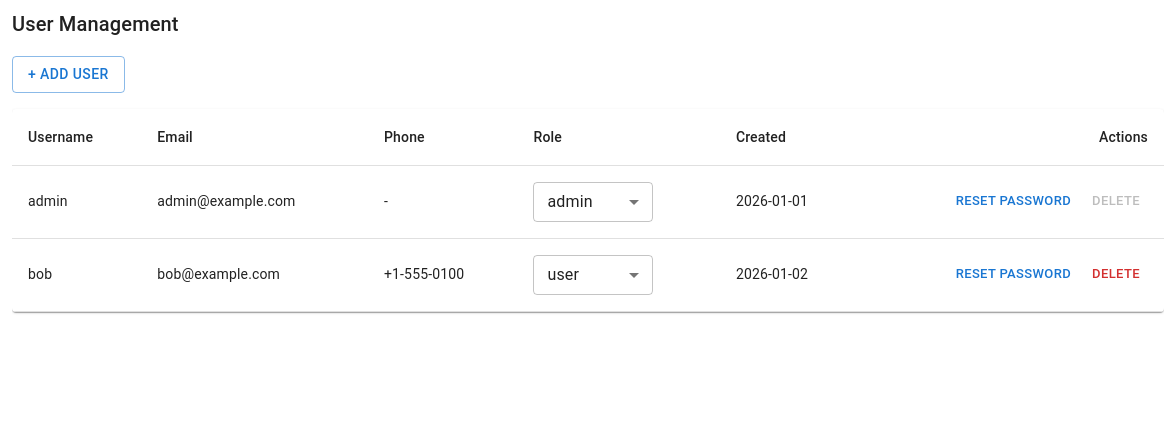
Test: AdminTab › creating a user › keeps Create disabled until username, email, and matching passwords are all present
Click the button "+ Add User".
click(68, 74)  # box [12, 56, 125, 92]
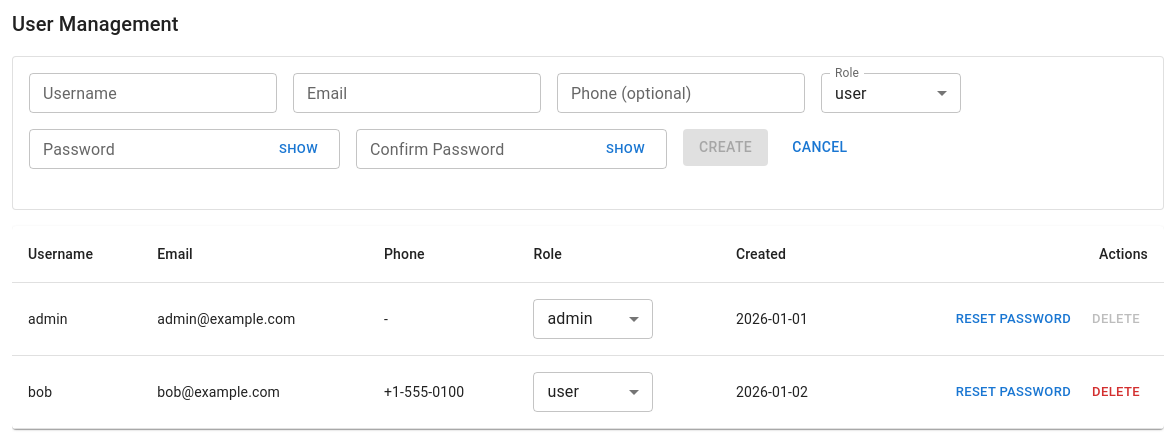
Check: the button "Create" is disabled, box [683, 129, 768, 166]
Type "carol" into the field labelled "Username".
click(153, 93); type("carol")  # box [29, 73, 277, 113]
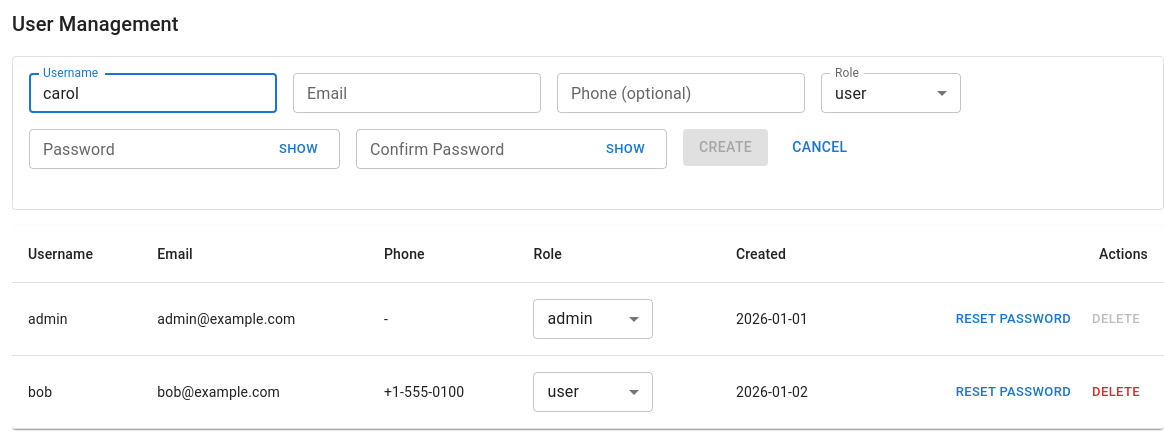
Type "carol@example.com" into the field labelled "Email".
click(417, 93); type("carol@example.com")  # box [293, 73, 541, 113]
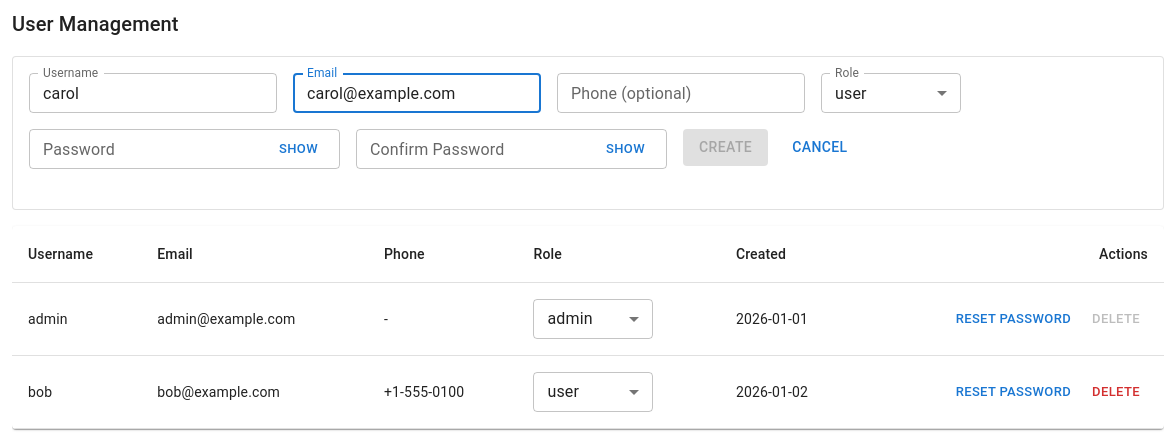
Check: the button "Create" is disabled, box [683, 129, 768, 166]
Type "password123" into the password field labelled "Password".
click(146, 149); type("password123")  # box [29, 129, 263, 169]
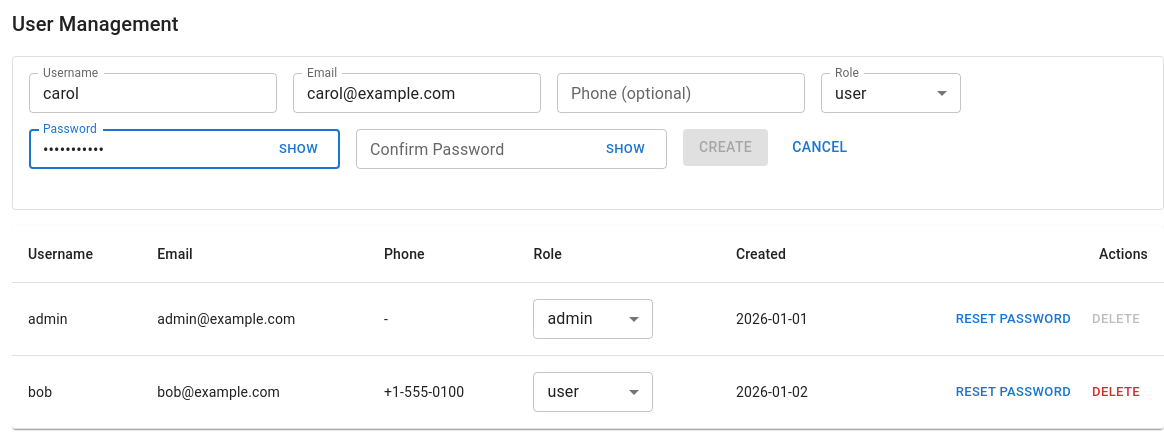
Type "not-the-same" into the password field labelled "Confirm Password".
click(473, 149); type("not-the-same")  # box [356, 129, 590, 169]
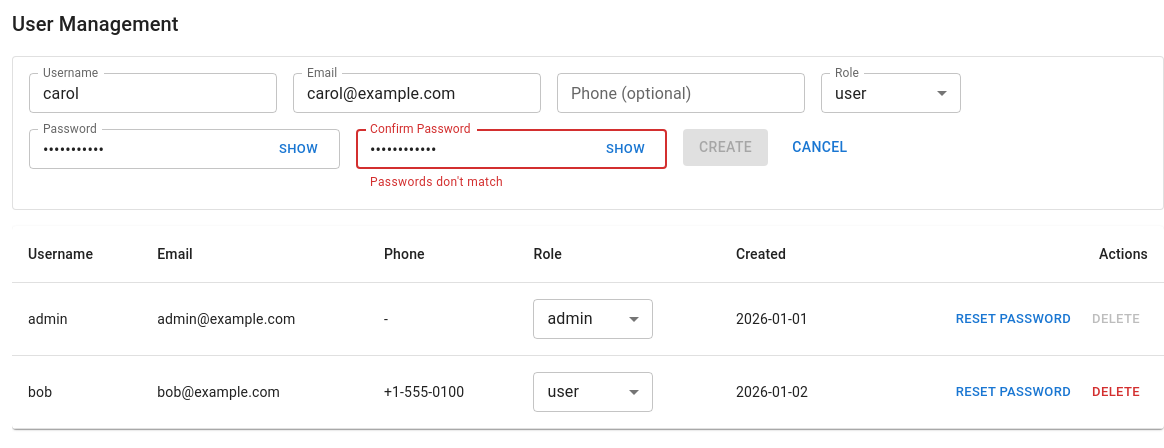
Check: the button "Create" is disabled, box [683, 129, 768, 166]
Type "password123" into the password field labelled "Confirm Password".
click(473, 149); type("password123")  # box [356, 129, 590, 169]
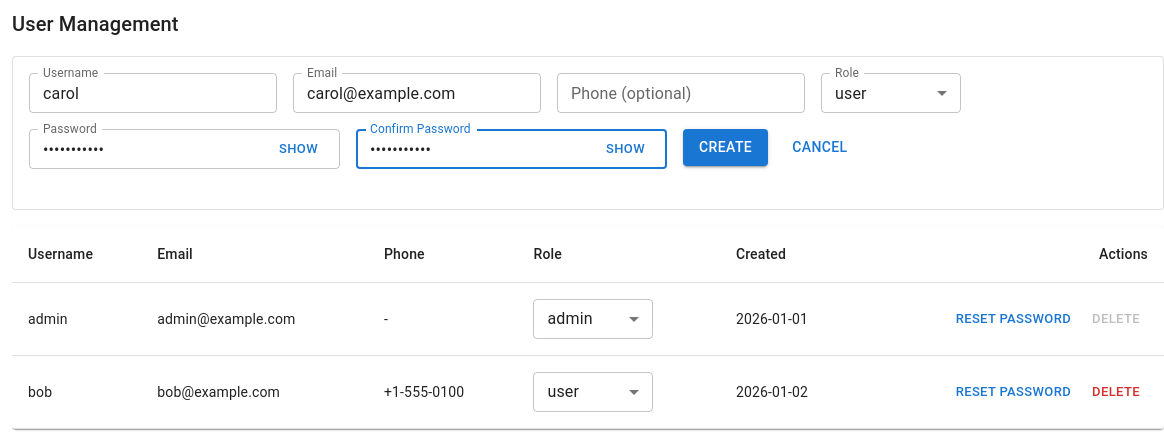
Check: the button "Create" is enabled, box [683, 129, 768, 166]
